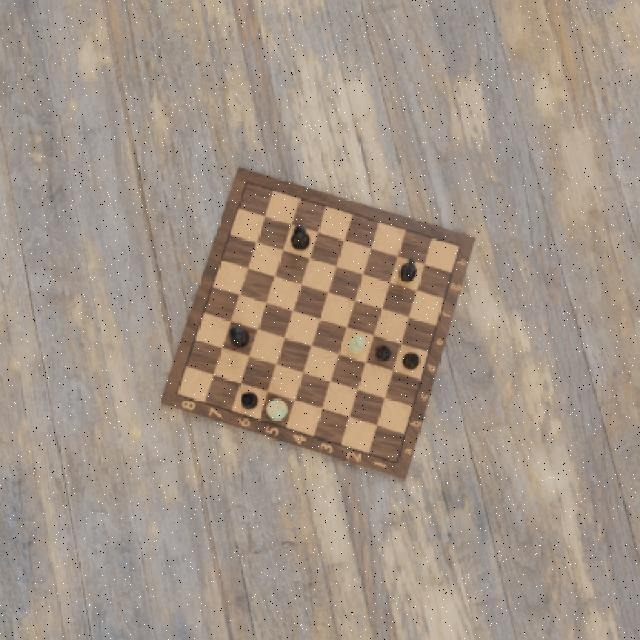black-bishop: (400, 349, 420, 370)
black-king: (289, 224, 311, 252)
black-knight: (399, 259, 417, 285)
black-pawn: (374, 342, 392, 363)
black-queen: (228, 324, 251, 349)
black-rook: (239, 392, 259, 411)
white-king: (263, 398, 288, 421)
white-queen: (346, 334, 366, 356)
